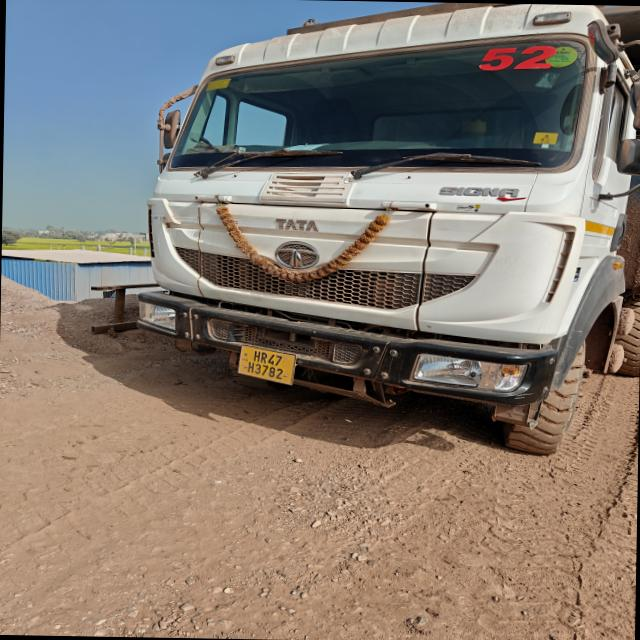license_plate: (239, 346, 296, 384)
